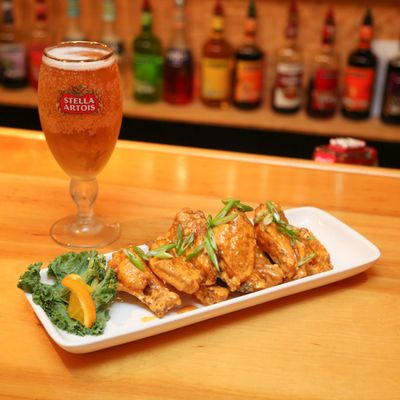curry: (17, 249, 119, 334)
